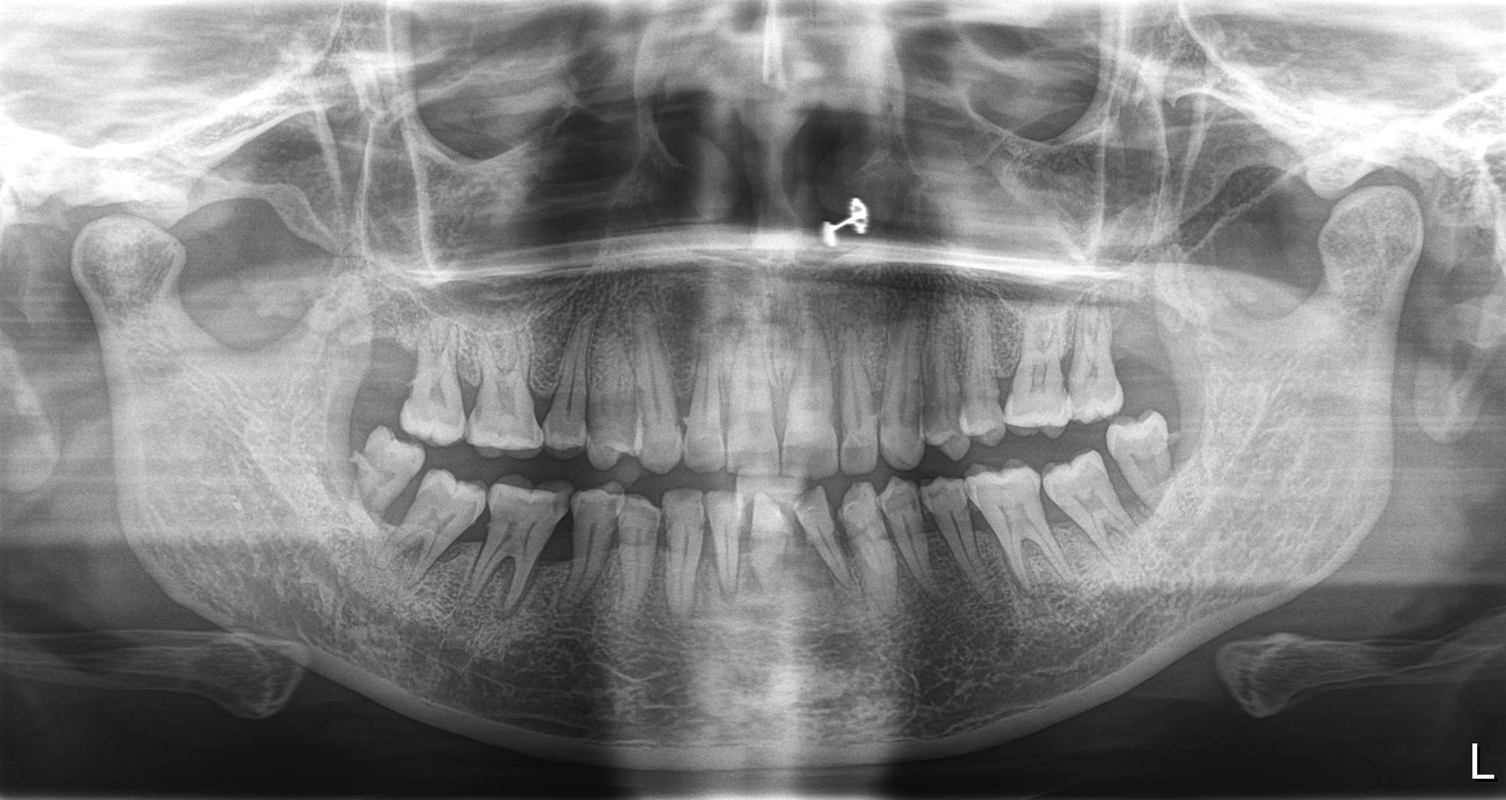Missing Tooth: (1110, 310, 1170, 404), (364, 331, 411, 420)
